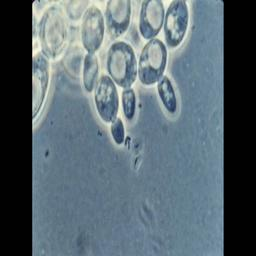Yeast: (37, 3, 72, 62), (107, 41, 137, 87), (138, 38, 167, 85), (94, 73, 119, 124), (81, 3, 104, 54), (164, 0, 188, 47), (105, 0, 131, 39), (140, 0, 164, 40), (157, 75, 177, 113), (83, 50, 99, 92), (122, 88, 136, 120), (111, 117, 125, 145)
